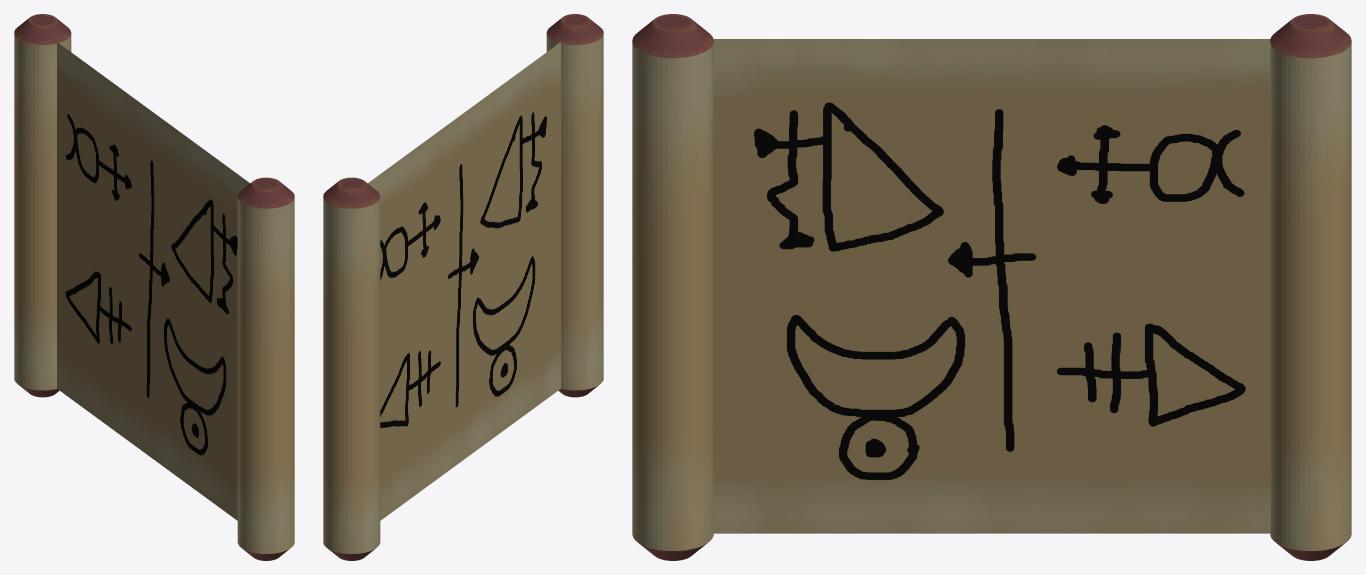
File: Scroll.fbx
The picture shows the model from 3 angles, left to right: view 1: azimuth 30°, elevation 25°; view 2: azimuth 150°, elevation 25°; view 3: azimuth 270°, elevation 25°; orthographic projection. The views are drawn at different scales.
Visible parts, largest first — view 1: Plane, Cylinder, Cylinder.001; view 2: Plane, Cylinder.001, Cylinder; view 3: Plane, Cylinder, Cylinder.001.
Part boxes in pixels (box(x1,y1,x2,y2)): Plane: box(57, 42, 249, 520); Cylinder: box(237, 177, 294, 560); Cylinder.001: box(14, 14, 71, 397); Plane: box(368, 42, 560, 520); Cylinder.001: box(323, 177, 380, 560); Cylinder: box(546, 14, 603, 397); Plane: box(713, 39, 1270, 533); Cylinder: box(632, 14, 713, 560); Cylinder.001: box(1270, 14, 1351, 560).
Size of the model in its own units: 40 by 287 by 353.
Materials: 3 (3 with a texture image).
